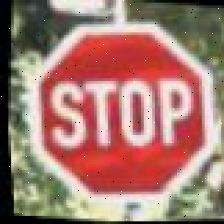Stop: (11, 9, 224, 212)
